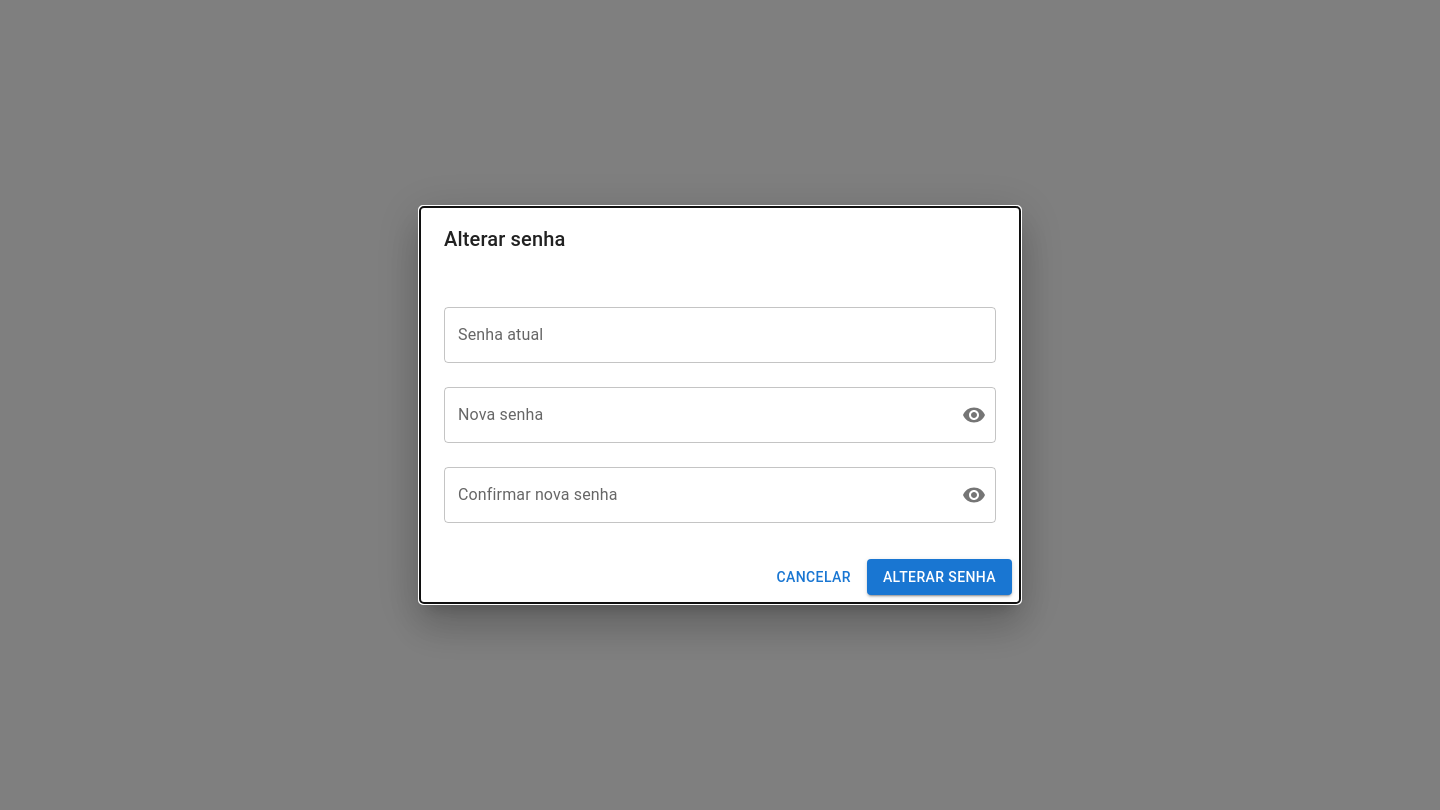
Test: AlterarSenhaDialog › shows incorrect current password alert on 400 response
In the password field labelled "Senha atual": (720, 335) [444,307,996,363], type "wrong"
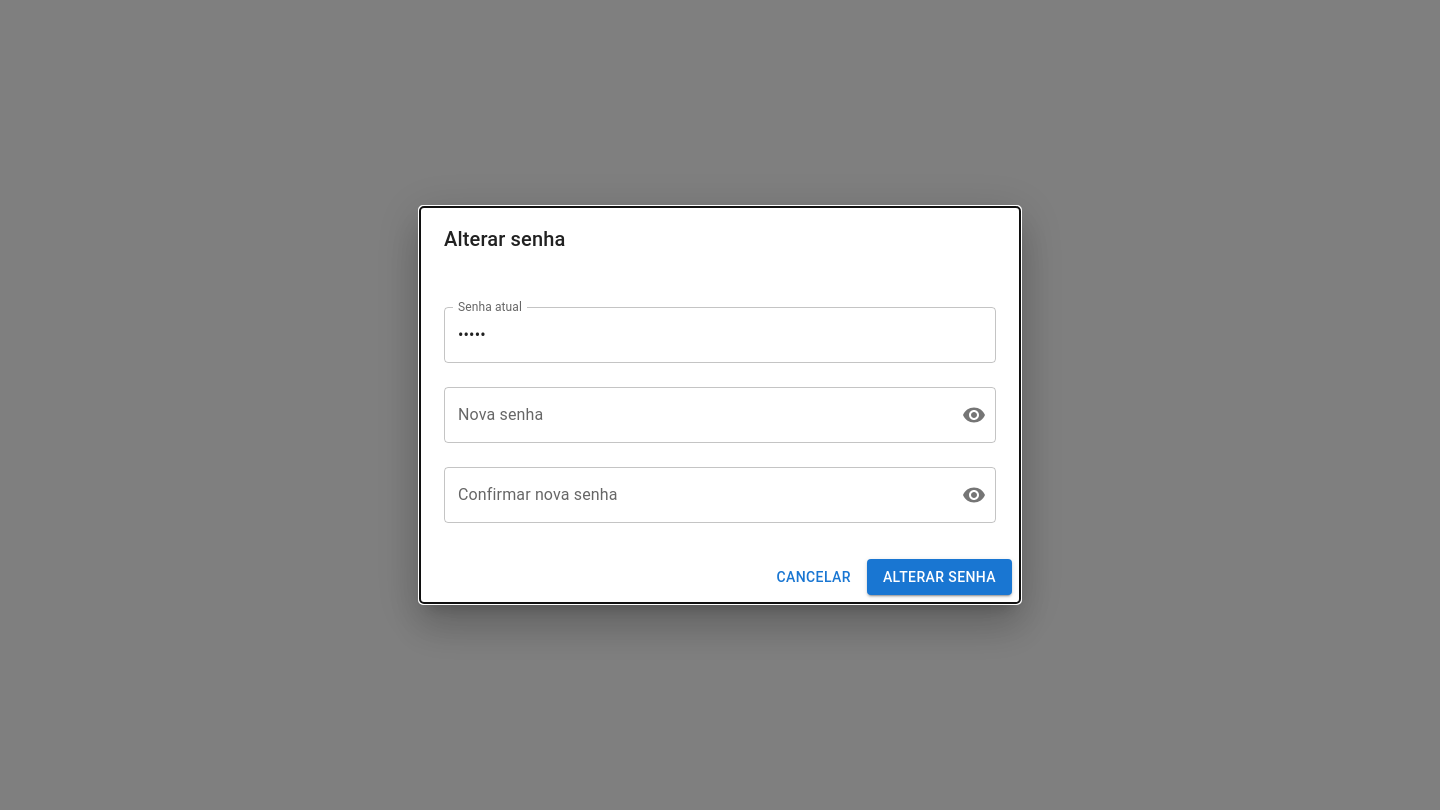
In the password field labelled "Nova senha": (695, 415) [444,387,946,443], type "secret1"
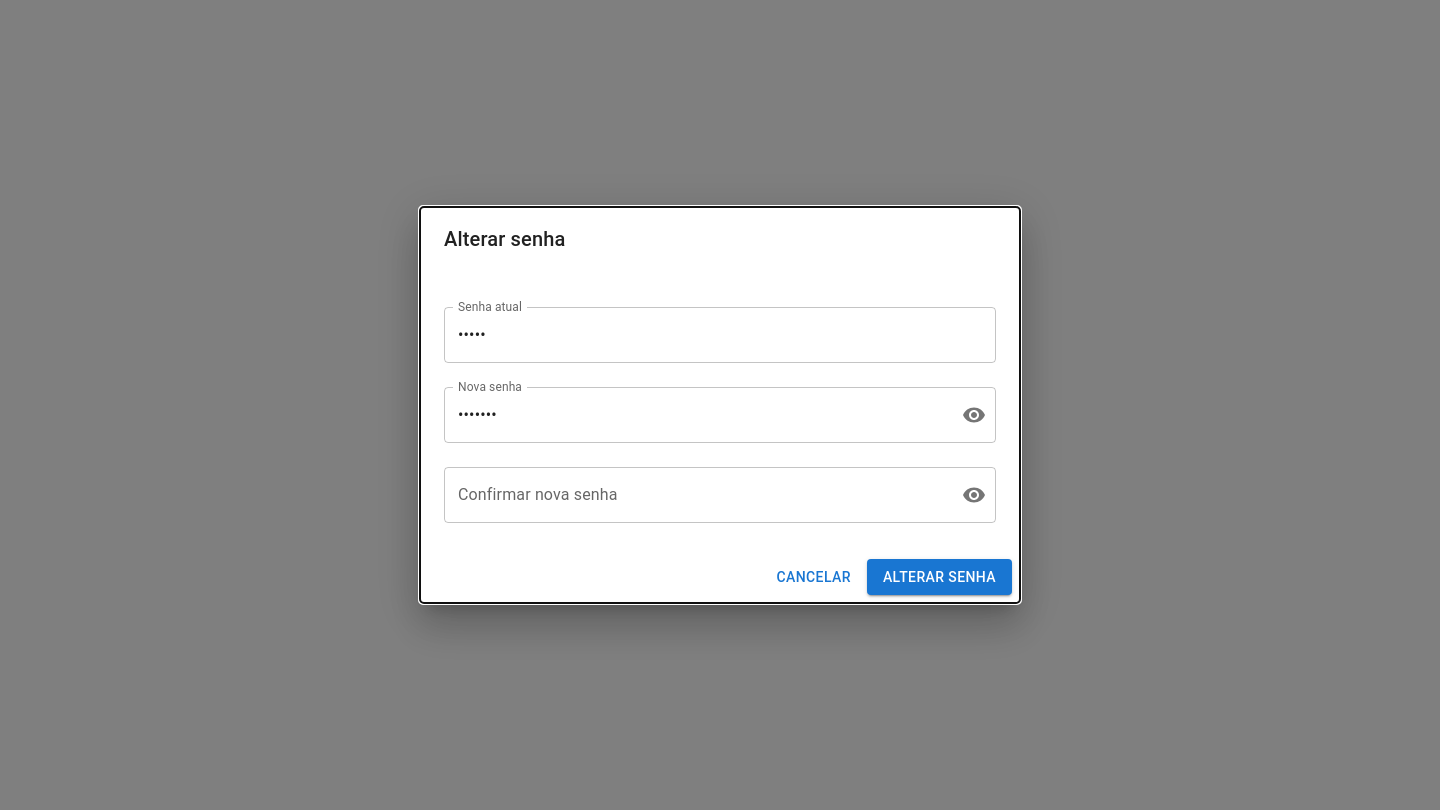
In the password field labelled "Confirmar nova senha": (695, 495) [444,467,946,523], type "secret1"
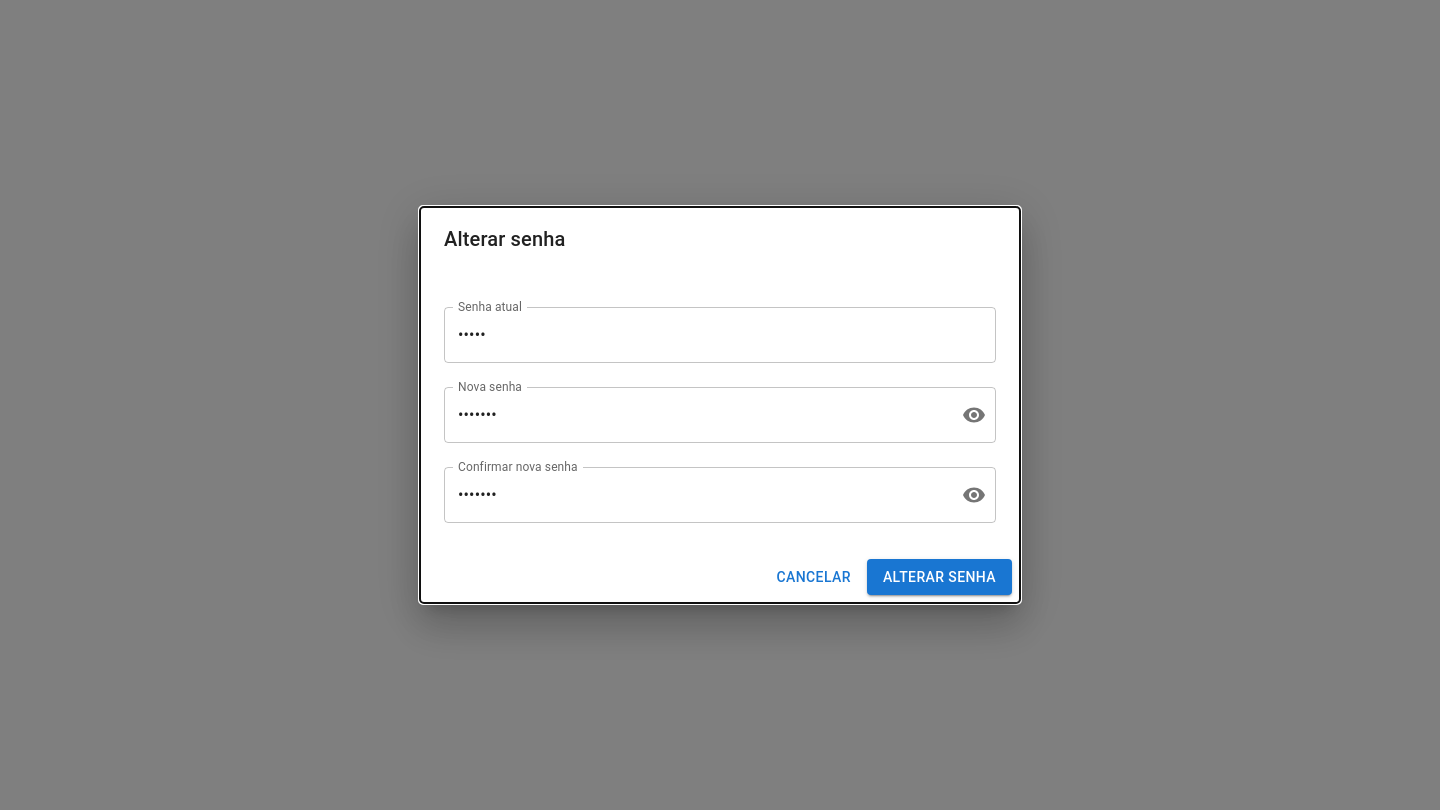
Click the button "Alterar senha": (939, 577) [867,559,1012,595]
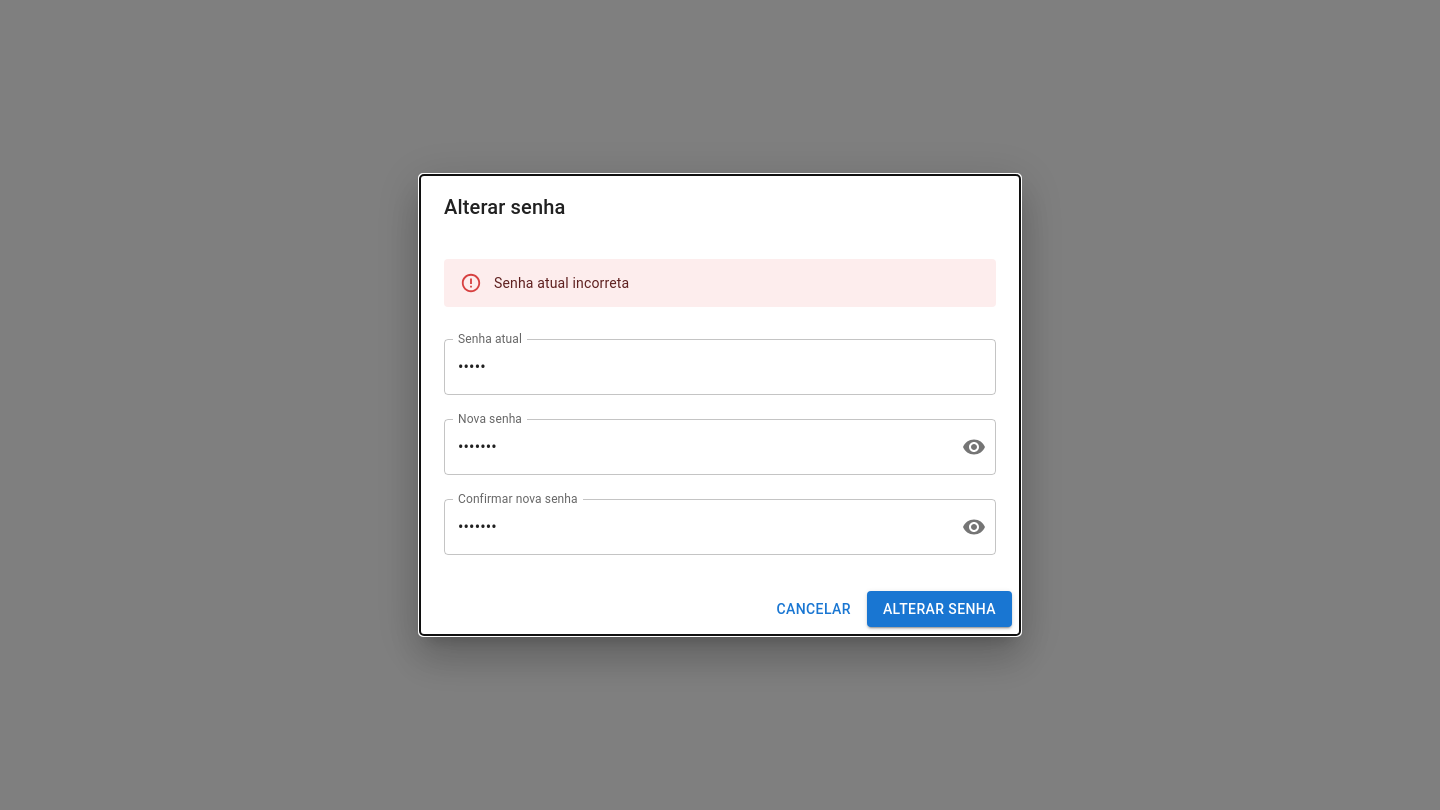
Now the message reads "Senha atual incorreta", box [494,275,629,291]
